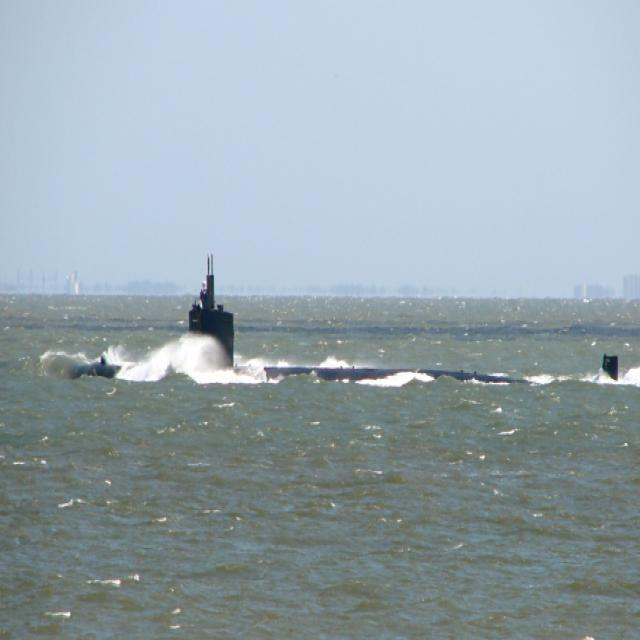submarine: (66, 258, 640, 377)
